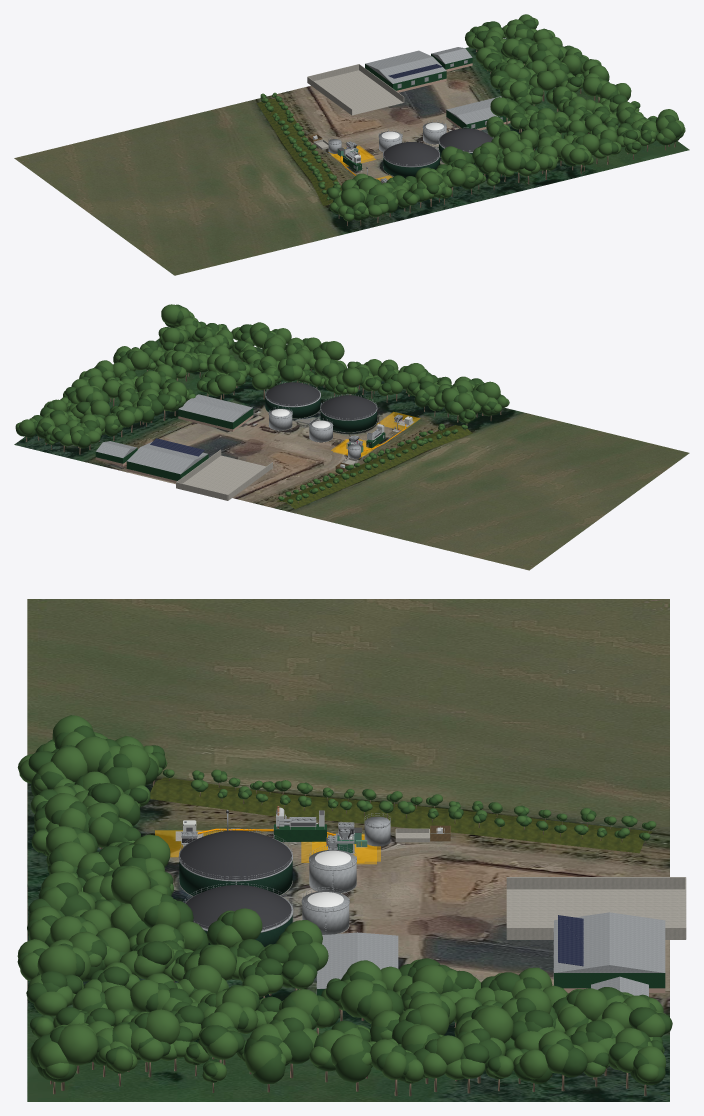
File: site.glb
3 views of the same model, one above another, from view 1: azimuth 30°, elevation 25°; view 2: azimuth 150°, elevation 25°; view 3: azimuth 270°, elevation 25° (orthographic). The views are drawn at different scales.
Parts seen in each view (by area): view 1: ground_satellite, silage_clamp, barn_N_solar, bund_W, digester_W, barn_E_dryer, digester_E, barn_NE, tree_0177, tank_small_E, tree_0042, tree_0049 (+5 smaller); view 2: ground_satellite, silage_clamp, bund_W, barn_N_solar, barn_E_dryer, digester_W, digester_E, barn_NE, tree_0056, tree_0075, tank_small_W, tank_small_E (+12 smaller); view 3: ground_satellite, bund_W, silage_clamp, barn_N_solar, digester_W, digester_E, barn_E_dryer, tree_0177, tank_small_W, tree_0116, tank_small_E, tree_0164 (+57 smaller).
Boxes of the visible parts, x1,y1,x2,y2 form: ground_satellite: (14, 38, 689, 275); silage_clamp: (307, 64, 404, 115); barn_N_solar: (365, 50, 446, 92); bund_W: (256, 98, 341, 205); digester_W: (383, 141, 439, 178); barn_E_dryer: (446, 96, 510, 130); digester_E: (438, 127, 493, 164); barn_NE: (431, 47, 472, 71); tree_0177: (655, 109, 684, 146); tank_small_E: (422, 120, 446, 144); tree_0042: (472, 142, 498, 176); tree_0049: (503, 151, 530, 182); ground_satellite: (14, 339, 689, 570); silage_clamp: (176, 449, 272, 500); bund_W: (277, 425, 472, 509); barn_N_solar: (126, 438, 208, 482); barn_E_dryer: (178, 394, 253, 431); digester_W: (320, 394, 377, 432); digester_E: (265, 381, 320, 418); barn_NE: (95, 441, 137, 465); tree_0056: (278, 353, 305, 382); tree_0075: (206, 374, 236, 399); tank_small_W: (309, 418, 333, 442); tank_small_E: (268, 406, 292, 430); ground_satellite: (27, 599, 669, 1101); bund_W: (150, 777, 652, 853); silage_clamp: (506, 877, 686, 939); barn_N_solar: (553, 912, 665, 992); digester_W: (178, 828, 292, 896); digester_E: (183, 883, 293, 946); barn_E_dryer: (316, 932, 398, 995); tree_0177: (31, 1024, 98, 1090); tank_small_W: (309, 846, 356, 893); tree_0116: (340, 979, 403, 1023); tank_small_E: (301, 887, 349, 935); tree_0164: (269, 1006, 318, 1078).
Size of what is drawn, in the model's own units: 271 by 16.57 by 151.
Materials: 37 (14 with a texture image).
